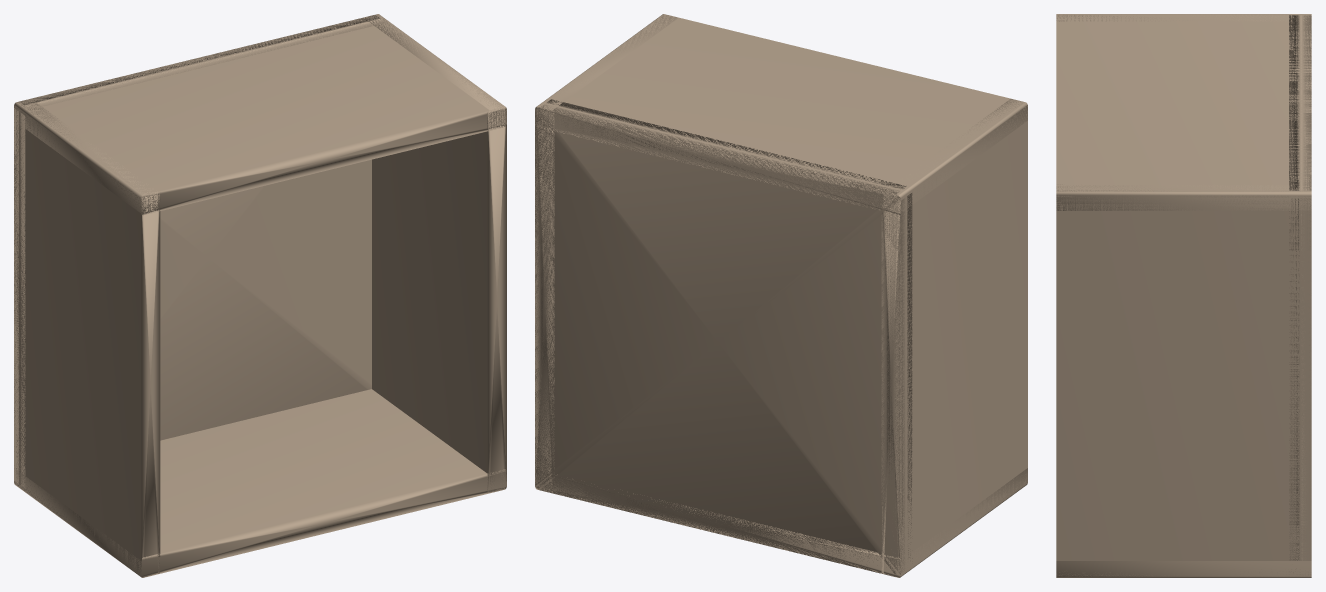
Rendered from crate.glb.
The picture shows the model from 3 angles, left to right: view 1: azimuth 30°, elevation 25°; view 2: azimuth 150°, elevation 25°; view 3: azimuth 270°, elevation 25°; orthographic projection.
Visible parts, largest first — view 1: crate, back, left, right, front; view 2: crate, left, back, right, front; view 3: right, back, crate, front, left.
Boxes of the visible parts, x1,y1,x2,y2 form: crate: [14, 15, 385, 488]; back: [14, 14, 506, 215]; left: [14, 98, 160, 577]; right: [363, 14, 506, 492]; front: [14, 389, 506, 577]; crate: [535, 99, 912, 577]; left: [881, 98, 1027, 577]; back: [535, 14, 1027, 214]; right: [535, 15, 677, 492]; front: [535, 468, 1027, 577]; right: [1056, 184, 1311, 576]; back: [1056, 14, 1311, 210]; crate: [1289, 15, 1311, 572]; front: [1056, 561, 1311, 577]; left: [1056, 14, 1311, 21].
Bounding box in the file's own units: 0.15 × 0.15 × 0.09.
